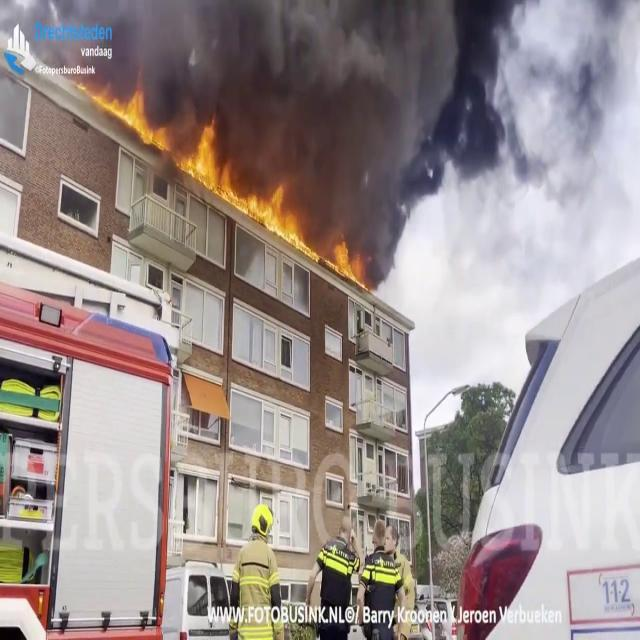Fire: (246, 178, 360, 282), (172, 109, 248, 214), (88, 80, 170, 150)
Smoke: (110, 0, 516, 224)
